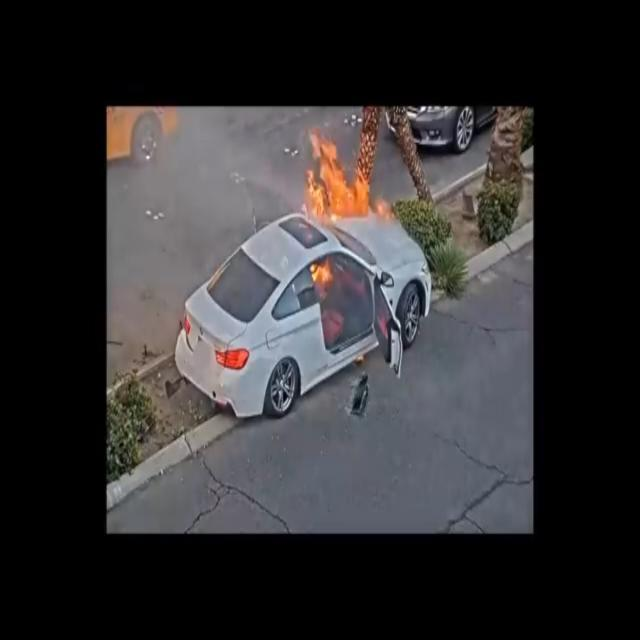fire: (303, 130, 383, 226), (305, 256, 334, 291)
